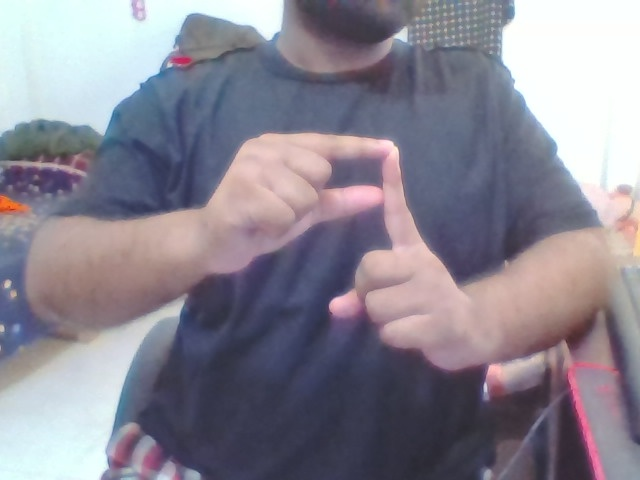P: (191, 109, 488, 386)
